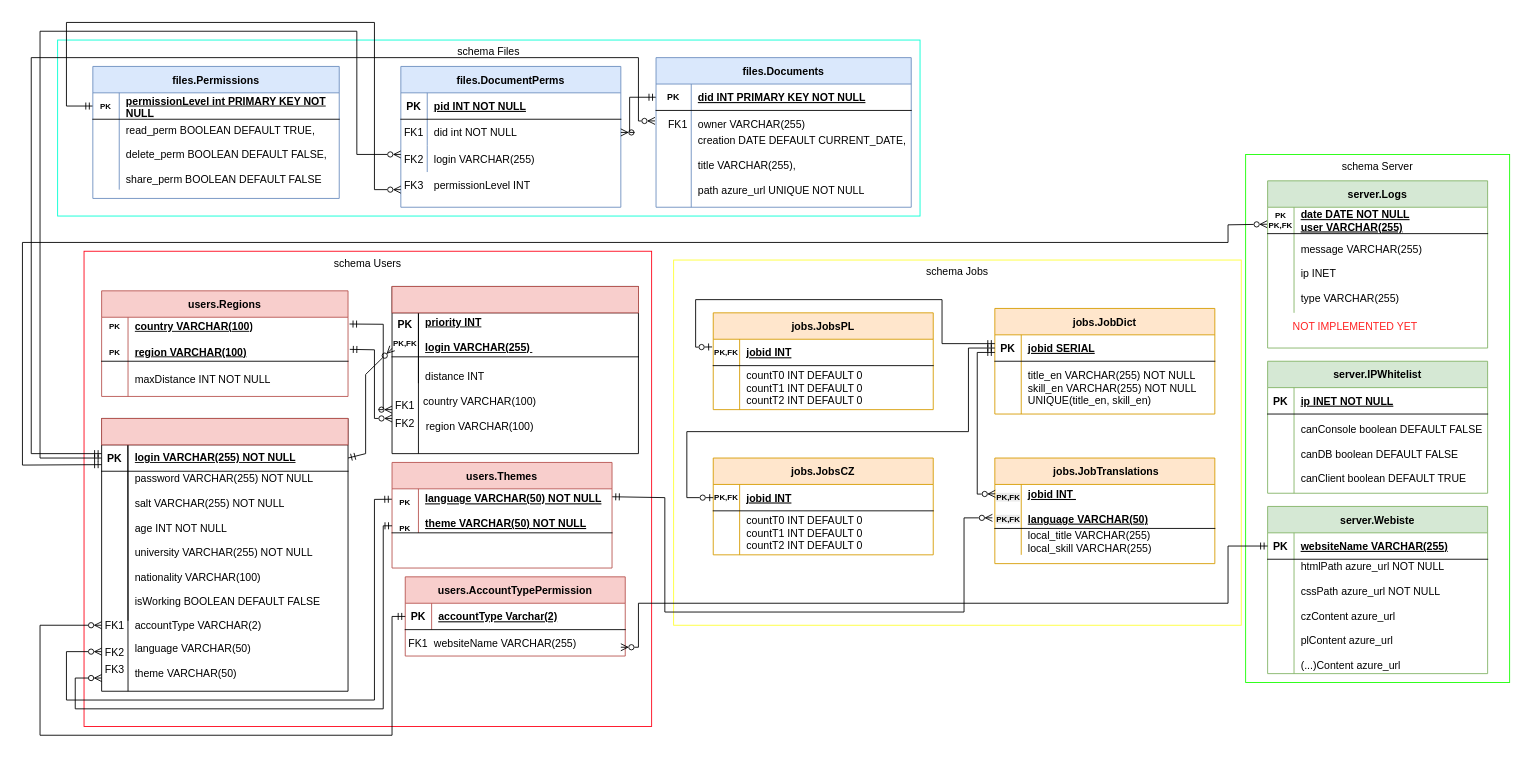
Image size: 1525x759. Some labels were removed from this diagram. Here are the shapes that lost their labels. From the top down, the centre of each, then its label:
the point at 514,299: users.UserSearchSettings
the point at 224,431: users.User
